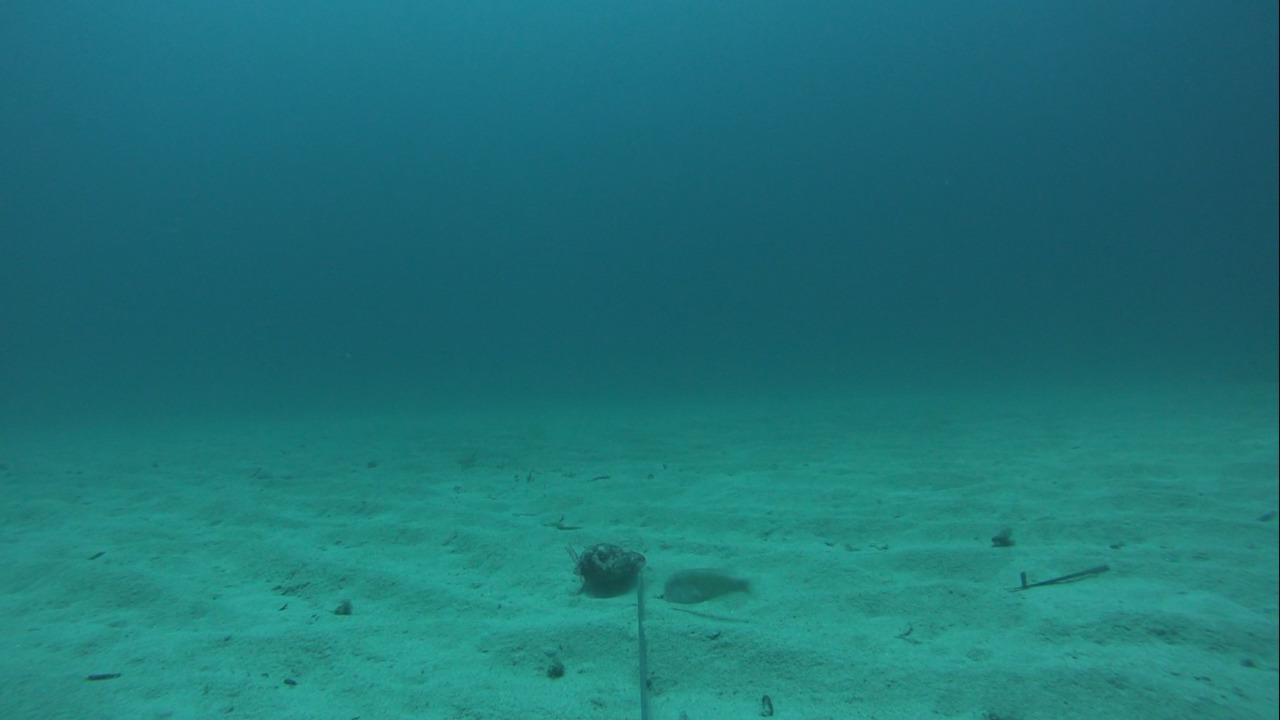raor: (655, 559, 754, 606)
